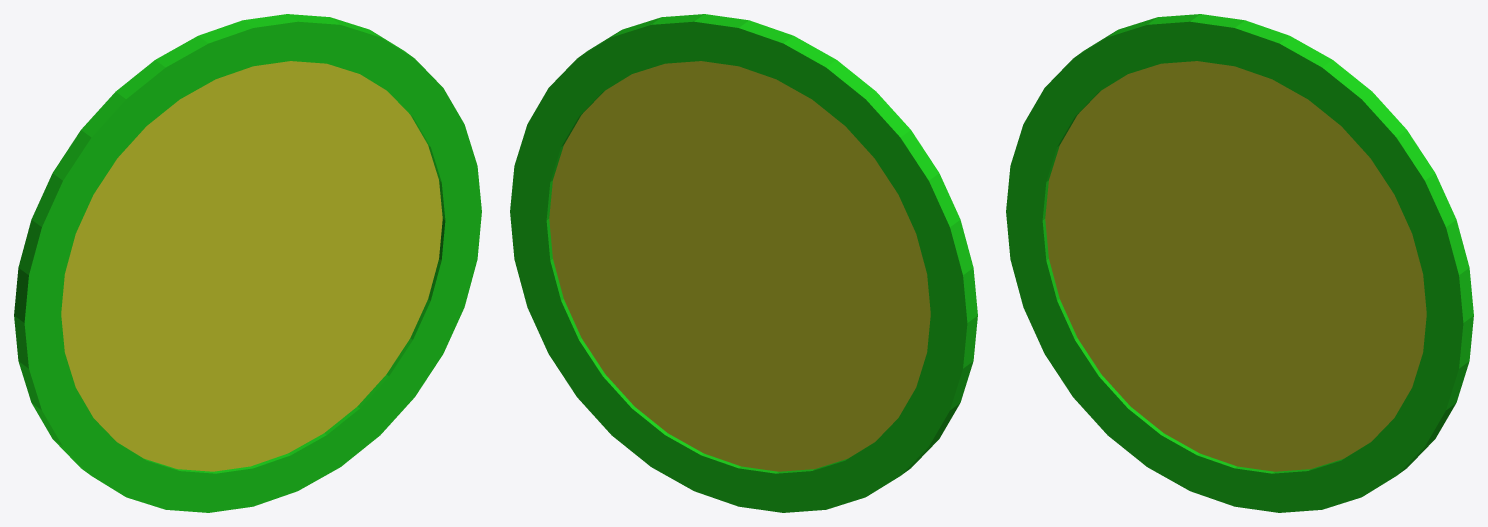
The model's file is circleTexturised.fbx.
3 renders of one model, left to right at view 1: azimuth 30°, elevation 25°; view 2: azimuth 150°, elevation 25°; view 3: azimuth 330°, elevation 25°, orthographic.
Visible parts, largest first — view 1: Cylinder; view 2: Cylinder; view 3: Cylinder.
Boxes of the visible parts, x1,y1,x2,y2 form: Cylinder: [14, 14, 481, 512]; Cylinder: [510, 14, 977, 512]; Cylinder: [1006, 14, 1473, 512].
Size of the model in its own units: 2 by 2 by 0.08.
